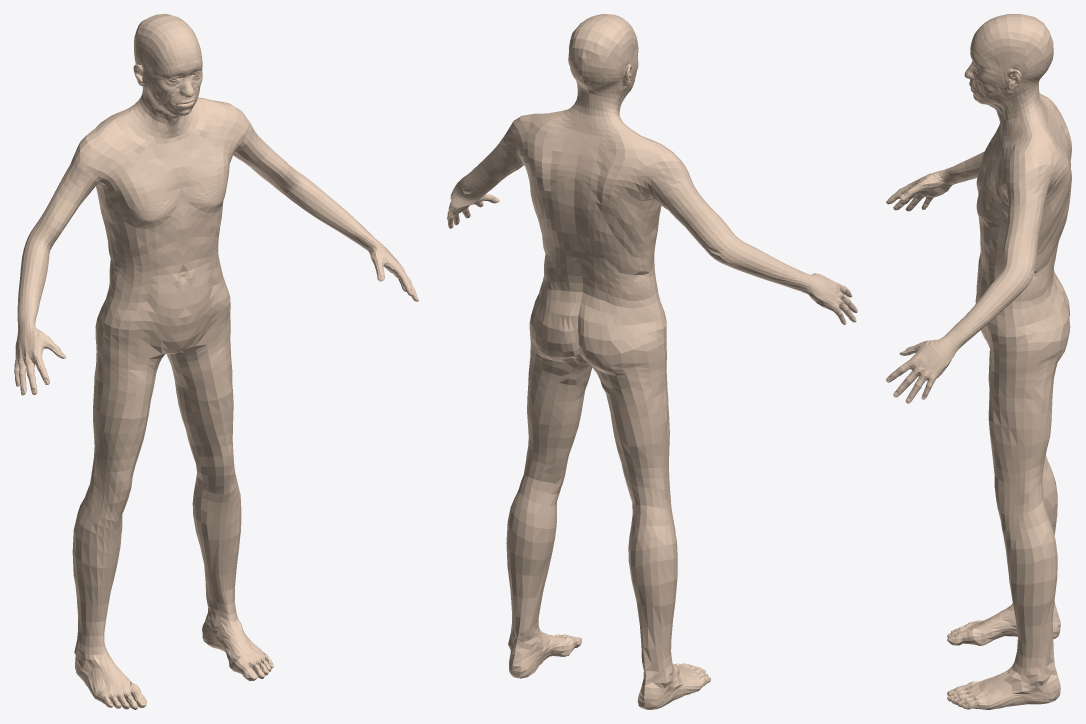
Rendered from male-older-lean-medium.glb.
3 views of the same model, side by side, from view 1: azimuth 30°, elevation 25°; view 2: azimuth 150°, elevation 25°; view 3: azimuth 270°, elevation 25° (orthographic).
Parts seen in each view (by area): view 1: world; view 2: world; view 3: world.
Boxes of the visible parts, x1,y1,x2,y2 form: world: (14,14,418,709); world: (447,14,857,709); world: (886,14,1071,709).
Size of the model in its own units: 1.22 by 1.93 by 0.4967.
